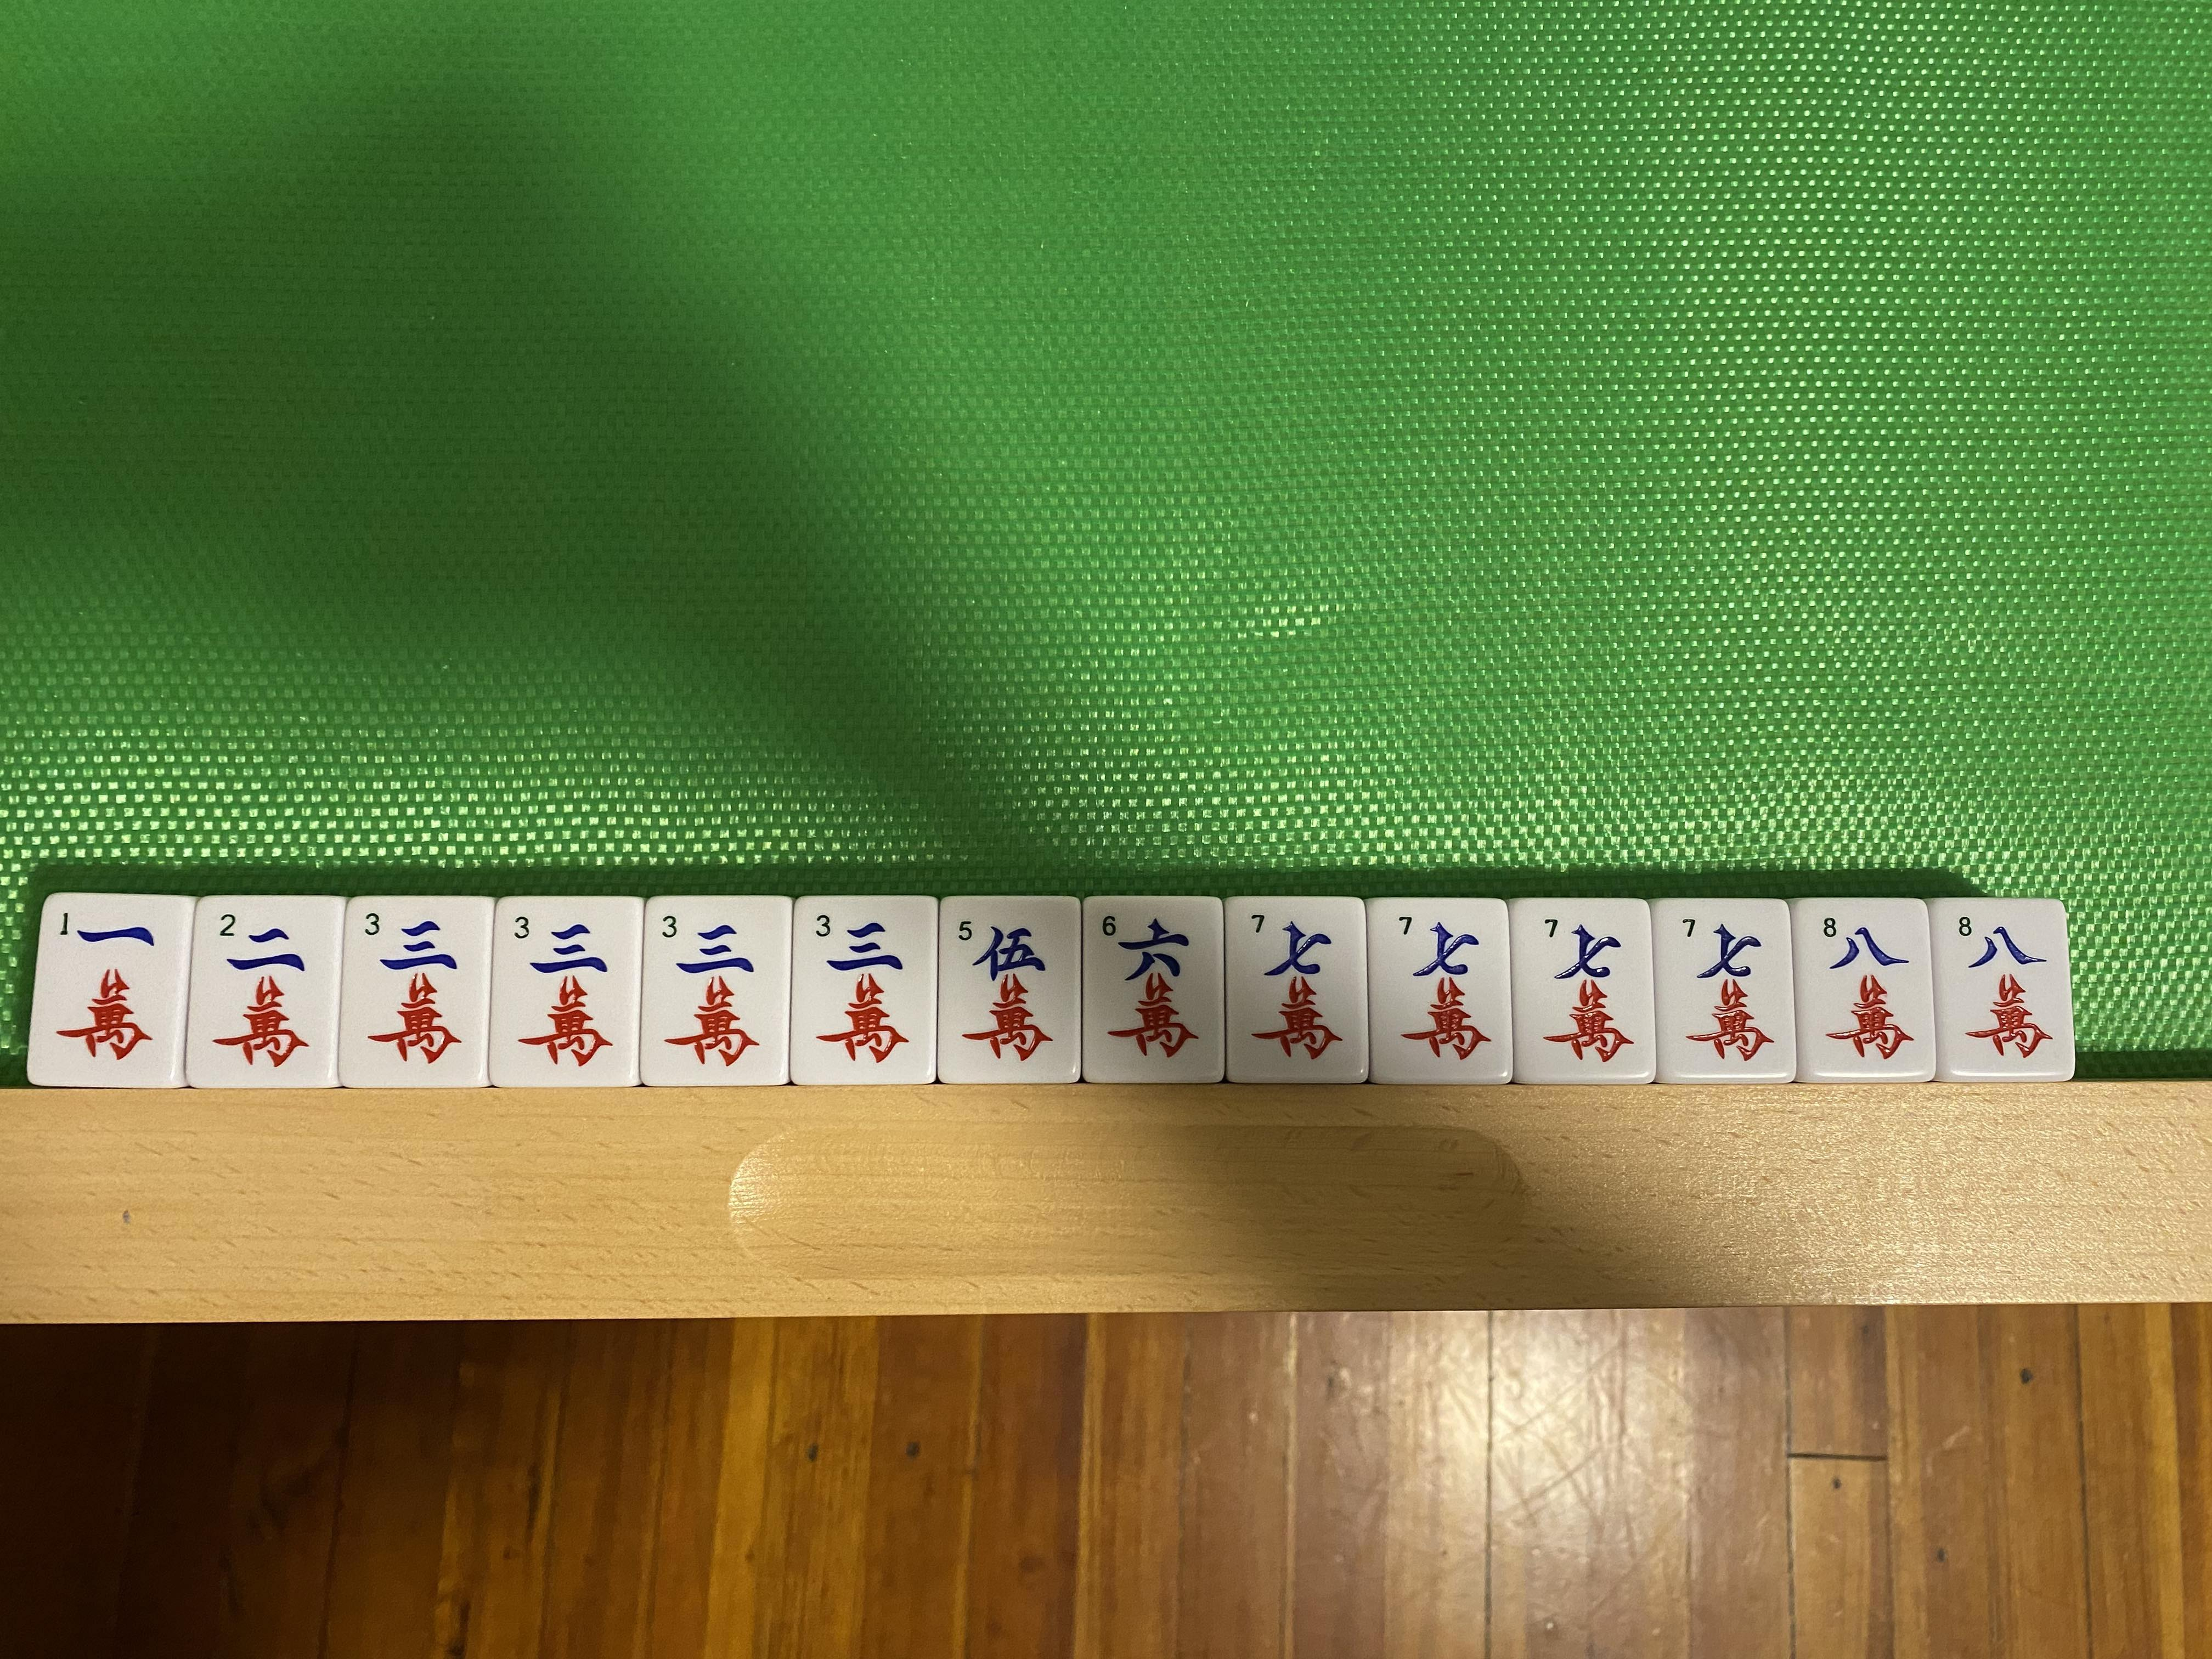character-eight: (1939, 899, 2067, 1080), (1799, 899, 1928, 1080)
character-five: (942, 901, 1078, 1082)
character-one: (44, 894, 178, 1086)
character-seven: (1515, 903, 1653, 1079), (1372, 901, 1510, 1077), (1231, 899, 1367, 1077), (1658, 903, 1789, 1079)
character-six: (1083, 897, 1219, 1086)
character-three: (641, 901, 789, 1086), (493, 901, 639, 1087), (792, 899, 937, 1080), (348, 901, 488, 1087)
character-two: (190, 901, 340, 1080)
